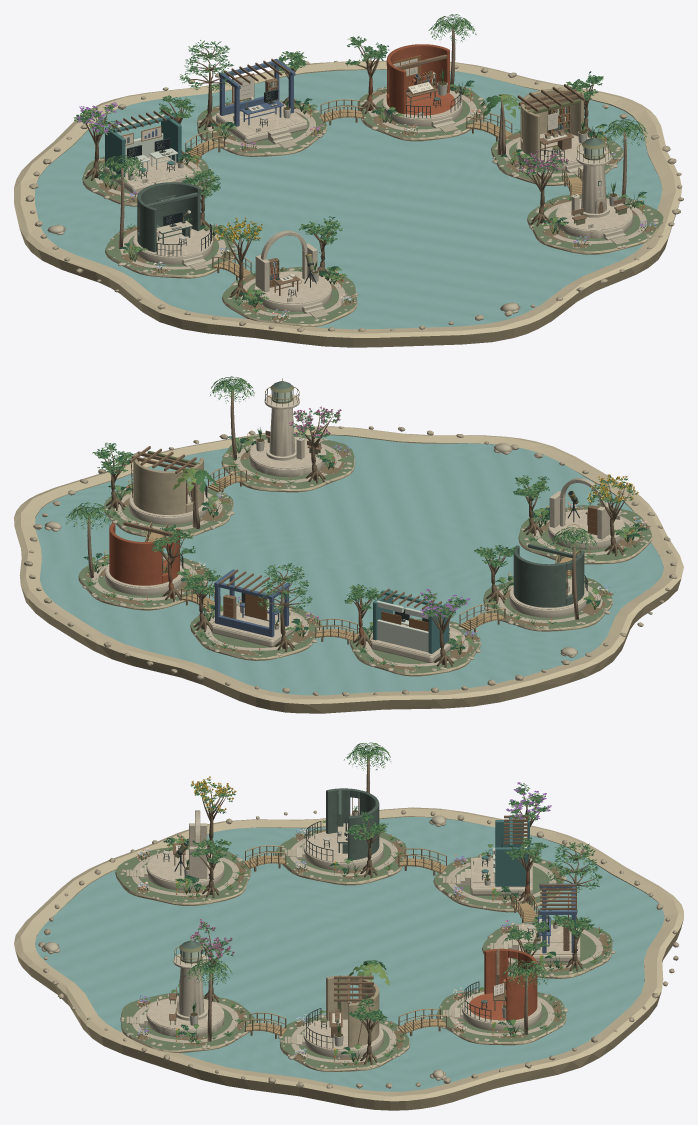
File: archipelago-v19-low.glb
3 renders of one model, top to bottom at view 1: azimuth 30°, elevation 25°; view 2: azimuth 150°, elevation 25°; view 3: azimuth 270°, elevation 25°, orthographic.
Visible parts, largest first — view 1: prepared_primitive, static_batch_0, static_batch_5, static_batch_3, static_batch_21, static_batch_1, static_batch_22, static_batch_6, static_batch_28, static_batch_27, static_batch_9, static_batch_51 (+16 smaller); view 2: prepared_primitive, static_batch_0, static_batch_3, static_batch_1, static_batch_21, static_batch_5, static_batch_6, static_batch_28, static_batch_27, static_batch_9, static_batch_51, static_batch_44 (+13 smaller); view 3: prepared_primitive, static_batch_0, static_batch_5, static_batch_3, static_batch_1, static_batch_21, static_batch_22, static_batch_6, static_batch_27, static_batch_51, static_batch_9, static_batch_28 (+12 smaller).
Part boxes in pixels (x1=…): prepared_primitive: x1=35, y1=69, x2=661, y2=329; static_batch_0: x1=14, y1=60, x2=681, y2=337; static_batch_5: x1=95, y1=90, x2=646, y2=317; static_batch_3: x1=83, y1=86, x2=663, y2=324; static_batch_21: x1=103, y1=95, x2=632, y2=313; static_batch_1: x1=19, y1=69, x2=678, y2=347; static_batch_22: x1=108, y1=54, x2=628, y2=295; static_batch_6: x1=80, y1=31, x2=627, y2=299; static_batch_28: x1=125, y1=81, x2=602, y2=286; static_batch_27: x1=269, y1=44, x2=564, y2=286; static_batch_9: x1=97, y1=89, x2=657, y2=322; static_batch_51: x1=47, y1=87, x2=658, y2=323; prepared_primitive: x1=35, y1=435, x2=663, y2=695; static_batch_0: x1=14, y1=426, x2=683, y2=704; static_batch_3: x1=79, y1=433, x2=651, y2=673; static_batch_1: x1=16, y1=434, x2=680, y2=713; static_batch_21: x1=105, y1=394, x2=625, y2=662; static_batch_5: x1=91, y1=437, x2=640, y2=666; static_batch_6: x1=87, y1=398, x2=630, y2=667; static_batch_28: x1=273, y1=381, x2=584, y2=607; static_batch_27: x1=109, y1=523, x2=179, y2=585; static_batch_9: x1=86, y1=448, x2=650, y2=670; static_batch_51: x1=44, y1=435, x2=650, y2=672; static_batch_44: x1=133, y1=452, x2=203, y2=514; prepared_primitive: x1=35, y1=817, x2=664, y2=1091; static_batch_0: x1=14, y1=807, x2=683, y2=1101; static_batch_5: x1=130, y1=831, x2=602, y2=1062; static_batch_3: x1=116, y1=829, x2=611, y2=1069; static_batch_1: x1=15, y1=816, x2=683, y2=1110; static_batch_21: x1=140, y1=810, x2=580, y2=1057; static_batch_22: x1=169, y1=797, x2=576, y2=1043; static_batch_6: x1=194, y1=760, x2=595, y2=1064; static_batch_27: x1=468, y1=948, x2=537, y2=1020; static_batch_51: x1=41, y1=815, x2=615, y2=1080; static_batch_9: x1=137, y1=830, x2=610, y2=1065; static_batch_28: x1=182, y1=788, x2=487, y2=1003.
Bounding box in the file's own units: 43.96 × 7.15 × 42.37.
55 materials, 8 textured.
